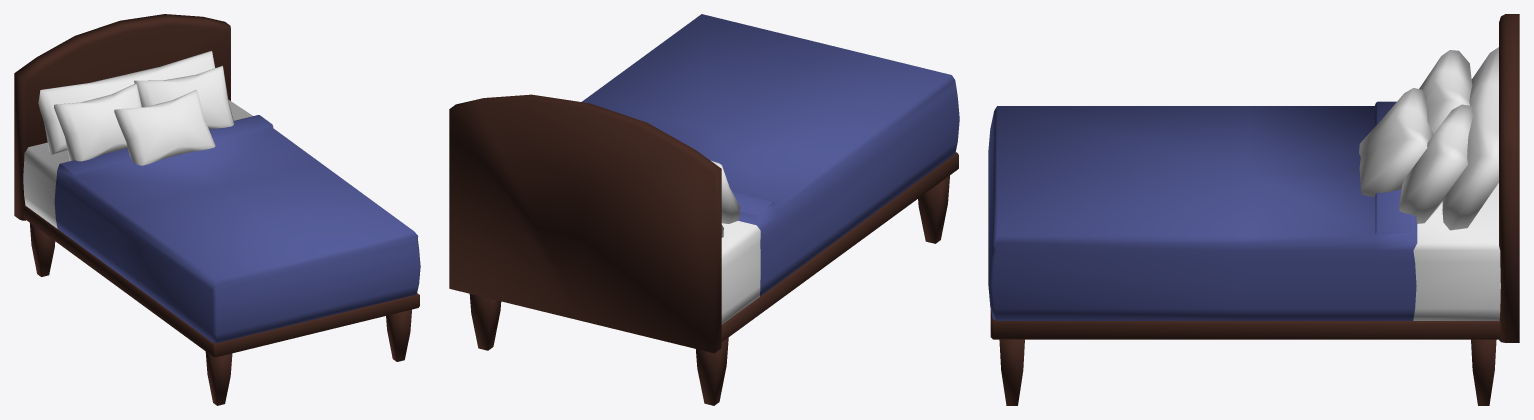
Rendered from Bed.fbx.
3 views of the same model, side by side, from view 1: azimuth 30°, elevation 25°; view 2: azimuth 150°, elevation 25°; view 3: azimuth 270°, elevation 25° (orthographic). The views are drawn at different scales.
Parts seen in each view (by area): view 1: bed, Cube.002, Cube.005, Cube.001, Cube.003, Cube.004; view 2: bed, Cube.002, Cube.001; view 3: bed, Cube.002, Cube.003, Cube.005, Cube.004, Cube.001.
Part boxes in pixels (x1,y1,x2,y2): bed: [23, 99, 420, 405]; Cube.002: [14, 14, 230, 220]; Cube.005: [114, 90, 215, 165]; Cube.001: [54, 83, 141, 161]; Cube.003: [38, 51, 215, 155]; Cube.004: [134, 65, 233, 128]; bed: [469, 14, 959, 405]; Cube.002: [449, 94, 721, 353]; Cube.001: [711, 160, 740, 223]; bed: [988, 101, 1500, 405]; Cube.002: [1499, 14, 1519, 342]; Cube.003: [1442, 47, 1498, 230]; Cube.005: [1359, 88, 1433, 196]; Cube.004: [1399, 104, 1474, 223]; Cube.001: [1419, 50, 1472, 134].
Bounding box in the file's own units: 203 × 205 × 331.
